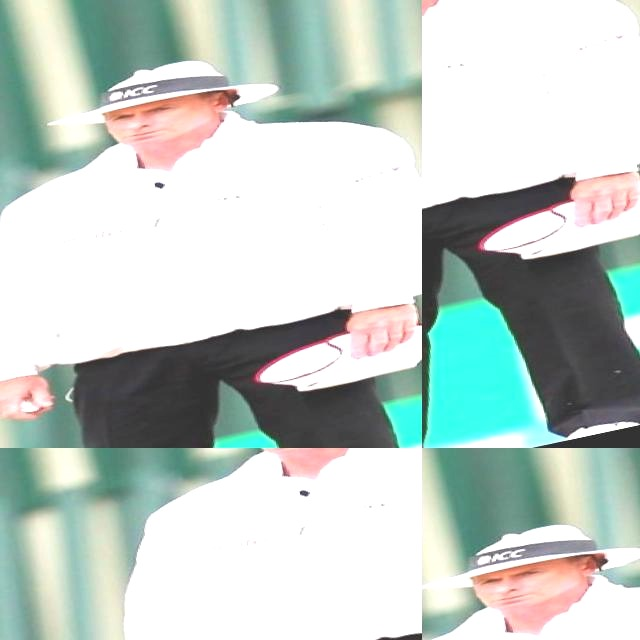No_Action: (422, 465, 640, 640)
Out: (0, 0, 388, 303)
Wide: (422, 0, 640, 155), (0, 448, 329, 529)
